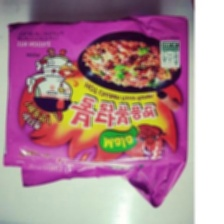snack: (0, 10, 194, 213)
